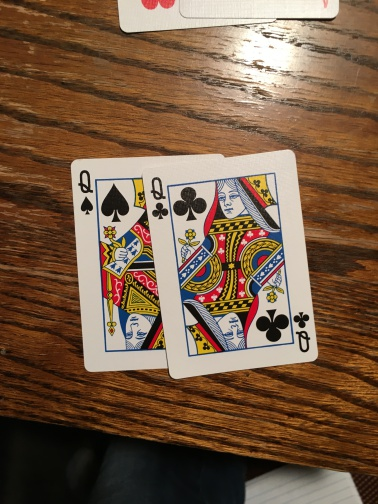queen: (143, 150, 319, 378), (70, 158, 152, 372)
